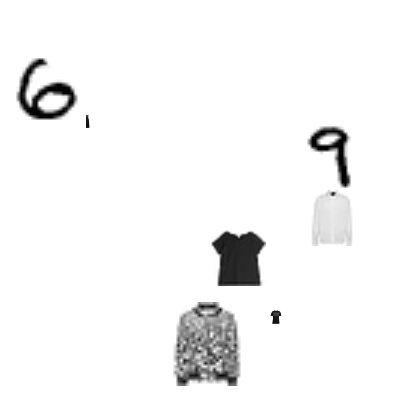6: (2, 53, 86, 137)
9: (290, 106, 374, 190)
Coat: (165, 302, 249, 386)
Dress: (80, 114, 94, 128)
Shirt: (304, 190, 360, 246)
T-shirt/top: (210, 230, 266, 286), (269, 310, 283, 324)
